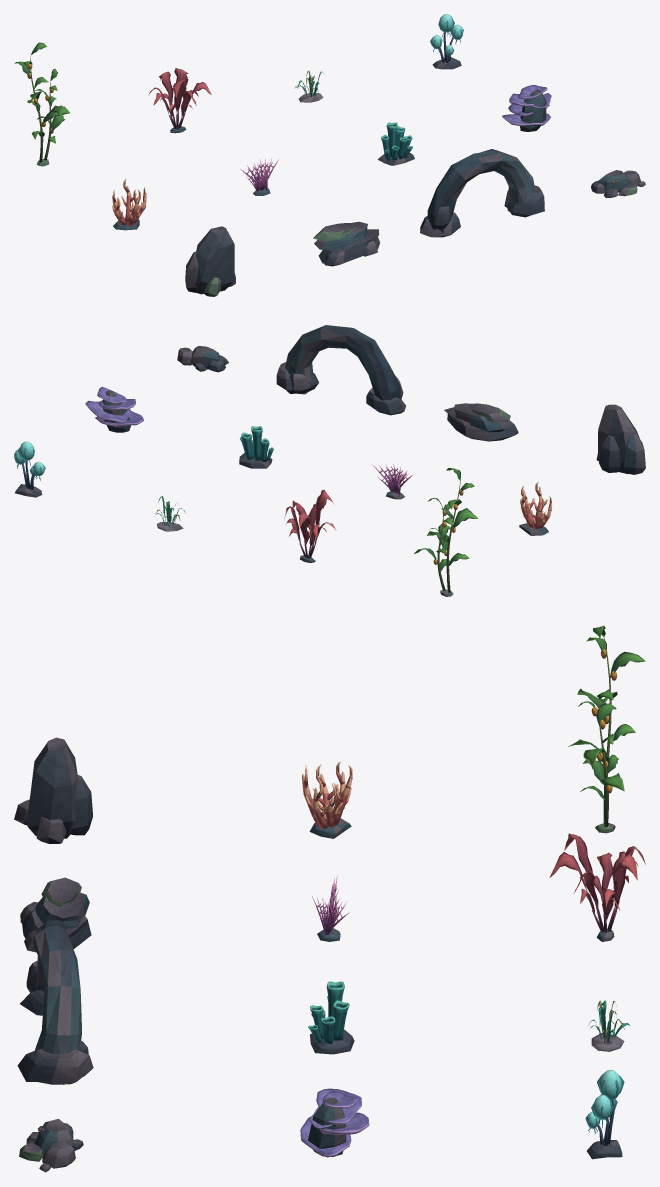
The model's file is Kit_Marino_Abismo_Importar.fbx.
The picture shows the model from 3 angles, top to bottom: view 1: azimuth 30°, elevation 25°; view 2: azimuth 150°, elevation 25°; view 3: azimuth 270°, elevation 25°; orthographic projection. The views are drawn at different scales.
Parts seen in each view (by area): view 1: Roca_Arco_Natural, Roca_Columna_Basalto, Roca_Laja_Escalonada, Coral_Repisa, Alga_Bosque, Alga_Cinta_Roja, Esponja_Tubular, Roca_Grupo_Derrumbe, Flora_Farol_Abisal, Coral_Ramificado, Coral_Abanico, Pasto_Marino; view 2: Roca_Arco_Natural, Roca_Columna_Basalto, Roca_Laja_Escalonada, Alga_Bosque, Coral_Repisa, Alga_Cinta_Roja, Esponja_Tubular, Coral_Ramificado, Flora_Farol_Abisal, Roca_Grupo_Derrumbe, Coral_Abanico, Pasto_Marino; view 3: Roca_Arco_Natural, Roca_Columna_Basalto, Alga_Bosque, Alga_Cinta_Roja, Coral_Repisa, Roca_Laja_Escalonada, Coral_Ramificado, Esponja_Tubular, Roca_Grupo_Derrumbe, Flora_Farol_Abisal, Pasto_Marino, Coral_Abanico.
Part boxes in pixels (left/top/right/bottom): Roca_Arco_Natural: left=420, top=149, right=544, bottom=237; Roca_Columna_Basalto: left=185, top=226, right=235, bottom=296; Roca_Laja_Escalonada: left=313, top=221, right=379, bottom=266; Coral_Repisa: left=502, top=85, right=551, bottom=131; Alga_Bosque: left=14, top=42, right=69, bottom=166; Alga_Cinta_Roja: left=148, top=68, right=211, bottom=133; Esponja_Tubular: left=377, top=122, right=414, bottom=165; Roca_Grupo_Derrumbe: left=591, top=170, right=645, bottom=198; Flora_Farol_Abisal: left=430, top=14, right=463, bottom=69; Coral_Ramificado: left=112, top=178, right=146, bottom=230; Coral_Abanico: left=240, top=158, right=278, bottom=195; Pasto_Marino: left=294, top=70, right=324, bottom=102; Roca_Arco_Natural: left=276, top=325, right=405, bottom=415; Roca_Columna_Basalto: left=596, top=404, right=645, bottom=474; Roca_Laja_Escalonada: left=444, top=403, right=518, bottom=441; Alga_Bosque: left=414, top=468, right=478, bottom=596; Coral_Repisa: left=85, top=386, right=143, bottom=432; Alga_Cinta_Roja: left=284, top=490, right=336, bottom=562; Esponja_Tubular: left=239, top=426, right=273, bottom=468; Coral_Ramificado: left=519, top=481, right=551, bottom=535; Flora_Farol_Abisal: left=14, top=441, right=45, bottom=497; Roca_Grupo_Derrumbe: left=177, top=346, right=228, bottom=372; Coral_Abanico: left=372, top=464, right=413, bottom=499; Pasto_Marino: left=155, top=496, right=185, bottom=531; Roca_Arco_Natural: left=17, top=920, right=93, bottom=1084; Roca_Columna_Basalto: left=14, top=737, right=92, bottom=843; Alga_Bosque: left=568, top=625, right=645, bottom=833; Alga_Cinta_Roja: left=549, top=833, right=645, bottom=941; Coral_Repisa: left=300, top=1088, right=369, bottom=1157; Roca_Laja_Escalonada: left=20, top=877, right=91, bottom=952; Coral_Ramificado: left=302, top=761, right=352, bottom=838; Esponja_Tubular: left=308, top=981, right=354, bottom=1054; Roca_Grupo_Derrumbe: left=19, top=1118, right=83, bottom=1172; Flora_Farol_Abisal: left=585, top=1070, right=624, bottom=1159; Pasto_Marino: left=588, top=1000, right=630, bottom=1051; Coral_Abanico: left=312, top=875, right=349, bottom=941.
Size of the model in its own units: 74.6 by 54.88 by 19.24.
Materials: 1 (1 with a texture image).
